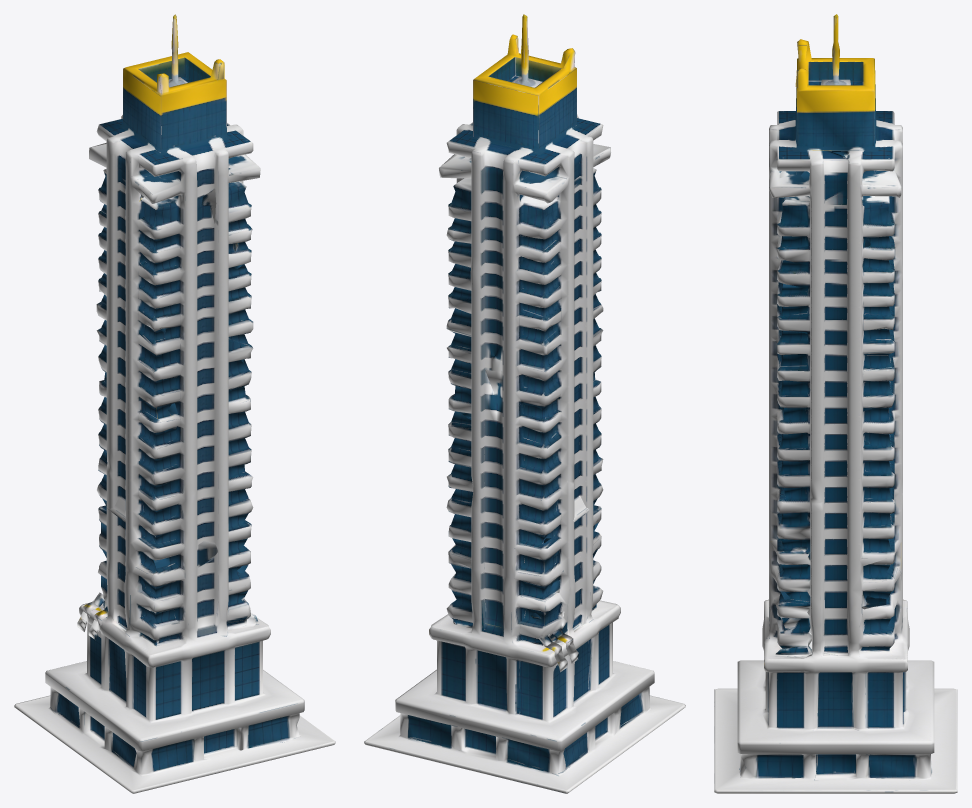
Rendered from hq_gold.glb.
The picture shows the model from 3 angles, left to right: view 1: azimuth 30°, elevation 25°; view 2: azimuth 150°, elevation 25°; view 3: azimuth 270°, elevation 25°; orthographic projection. The views are drawn at different scales.
Bounding box in the file's own units: 0.5753 × 1.91 × 0.5753.
Materials: 1 (1 with a texture image).
